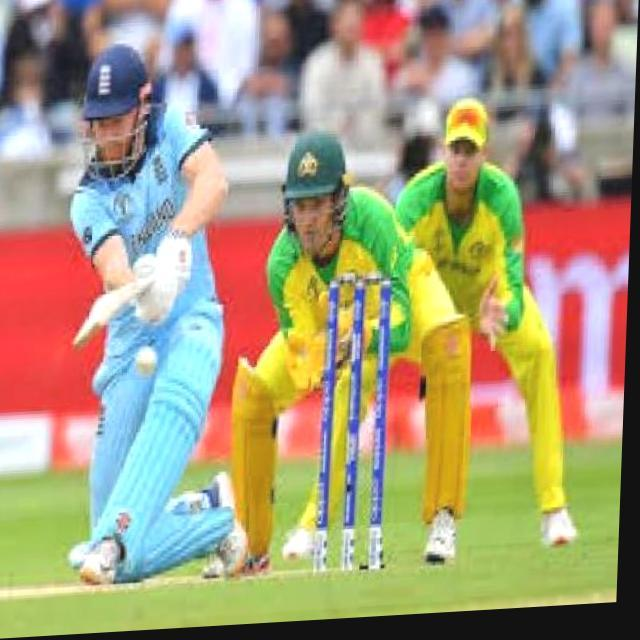-: (125, 340, 172, 382)
